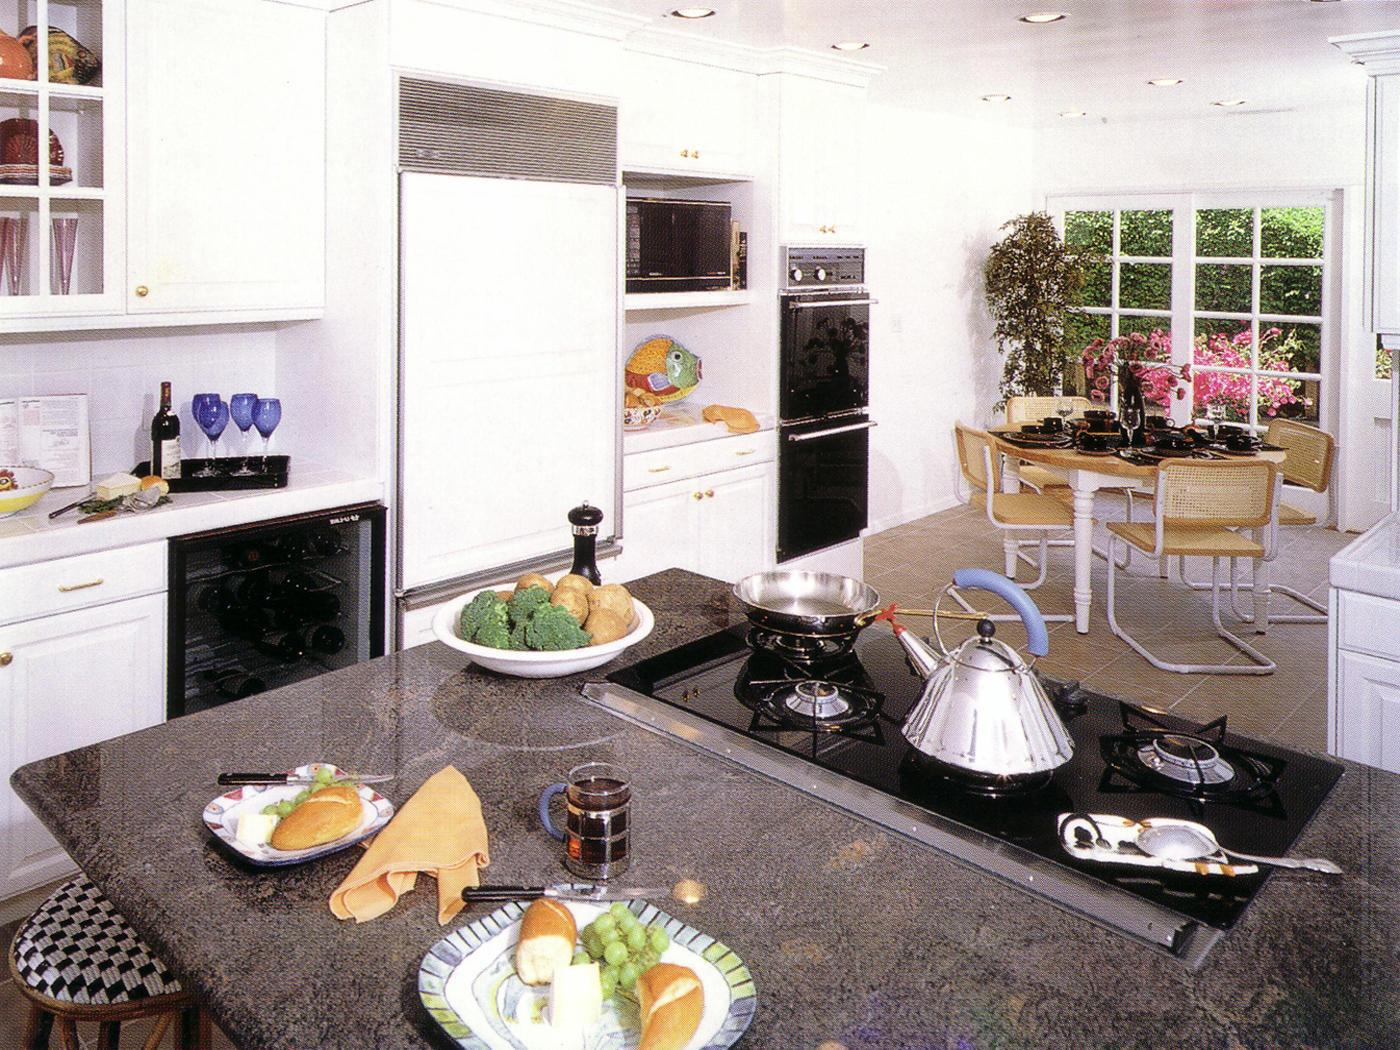Electrodomestico: (649, 619, 1339, 956), (401, 161, 603, 550), (775, 278, 866, 535)
